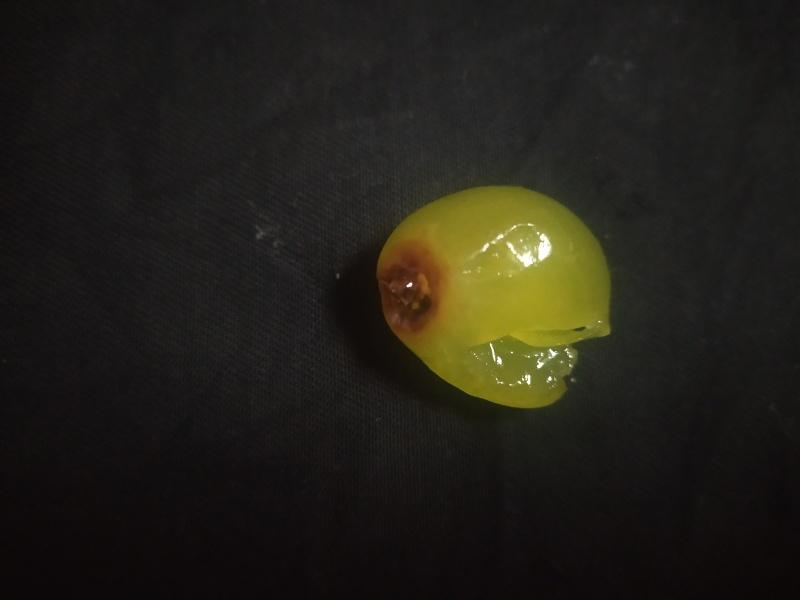Grape Overripe: (371, 180, 615, 412)
